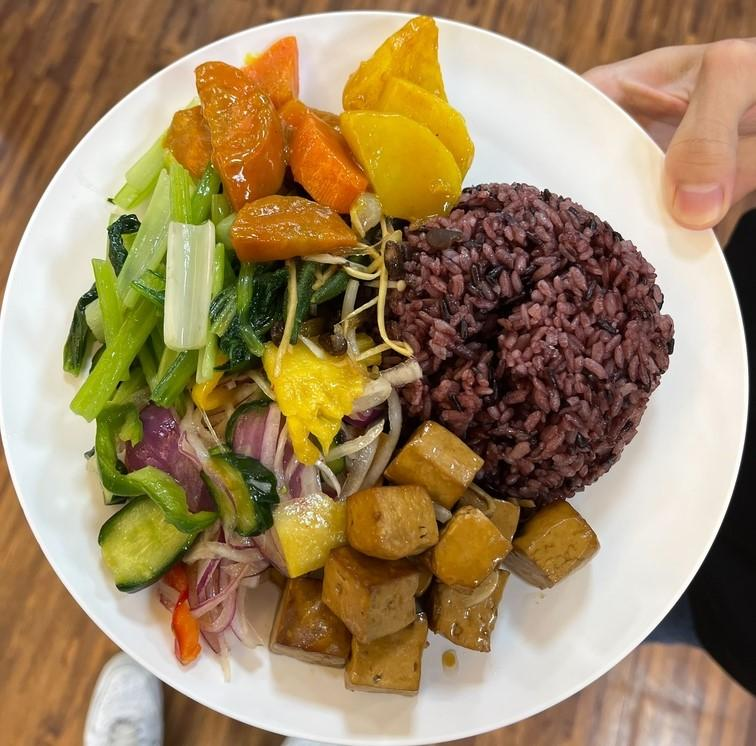big fried chicken leg: (0, 12, 756, 746)
braised fish: (361, 175, 670, 503)
braised fish fillet: (274, 425, 605, 695), (161, 20, 482, 260), (134, 374, 397, 660), (69, 169, 341, 400)
